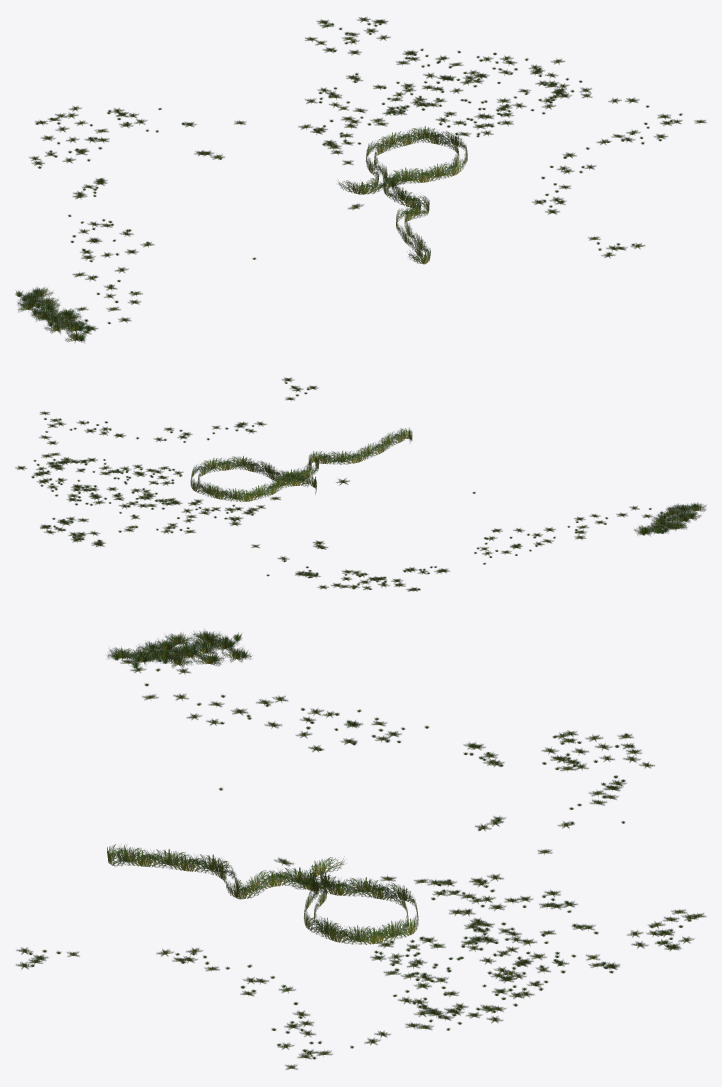
Rendered from 0490597f-69b2-446b-97c8-773fdec2da17_SamsungBeach_Grass_v6.glb.
3 renders of one model, top to bottom at view 1: azimuth 30°, elevation 25°; view 2: azimuth 150°, elevation 25°; view 3: azimuth 270°, elevation 25°, orthographic. The views are drawn at different scales.
Parts seen in each view (by area): view 1: mk_grass; view 2: mk_grass; view 3: mk_grass.
Boxes of the visible parts, bbox=[...] form: mk_grass: bbox=[15, 17, 706, 342]; mk_grass: bbox=[15, 377, 705, 591]; mk_grass: bbox=[16, 630, 706, 1069].
Size of the model in its own units: 112 by 4.75 by 77.09.
Materials: 1 (1 with a texture image).
